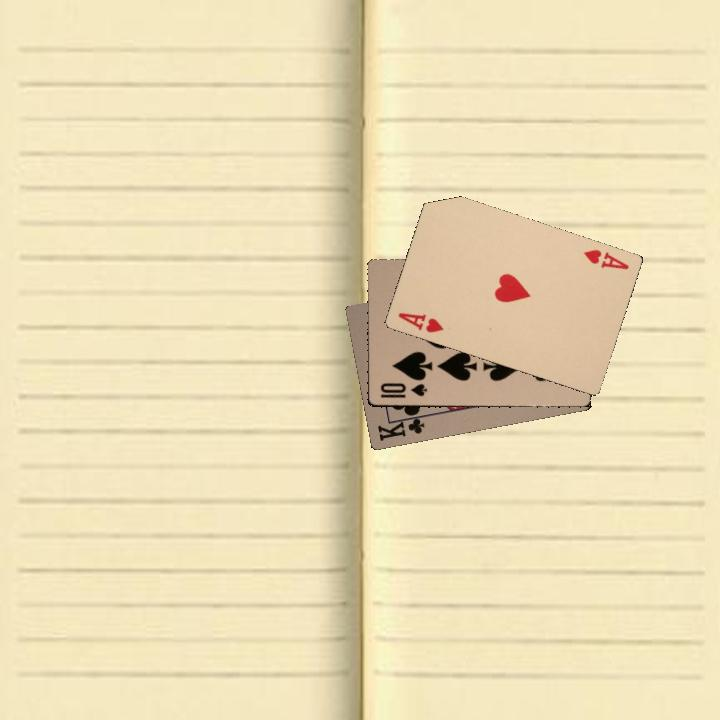10s: (376, 379, 429, 400)
Ah: (394, 308, 446, 335), (579, 245, 631, 272)
Kc: (374, 410, 428, 444)
